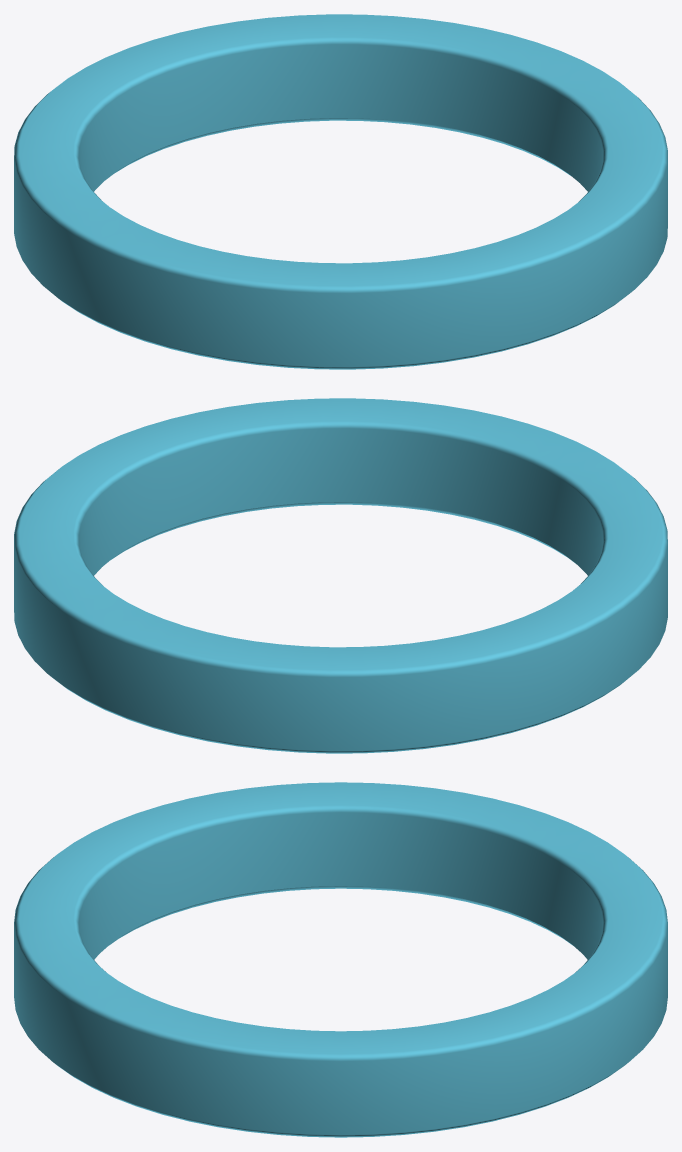
3 renders of one model, top to bottom at view 1: azimuth 30°, elevation 25°; view 2: azimuth 150°, elevation 25°; view 3: azimuth 270°, elevation 25°, orthographic.
Visible parts, largest first — view 1: seal_body; view 2: seal_body; view 3: seal_body.
Part boxes in pixels (bbox=[...]): seal_body: bbox=[14, 14, 667, 369]; seal_body: bbox=[14, 398, 667, 753]; seal_body: bbox=[14, 782, 667, 1137].
Size of the model in its own units: 0.0674 by 0.0095 by 0.0674.
